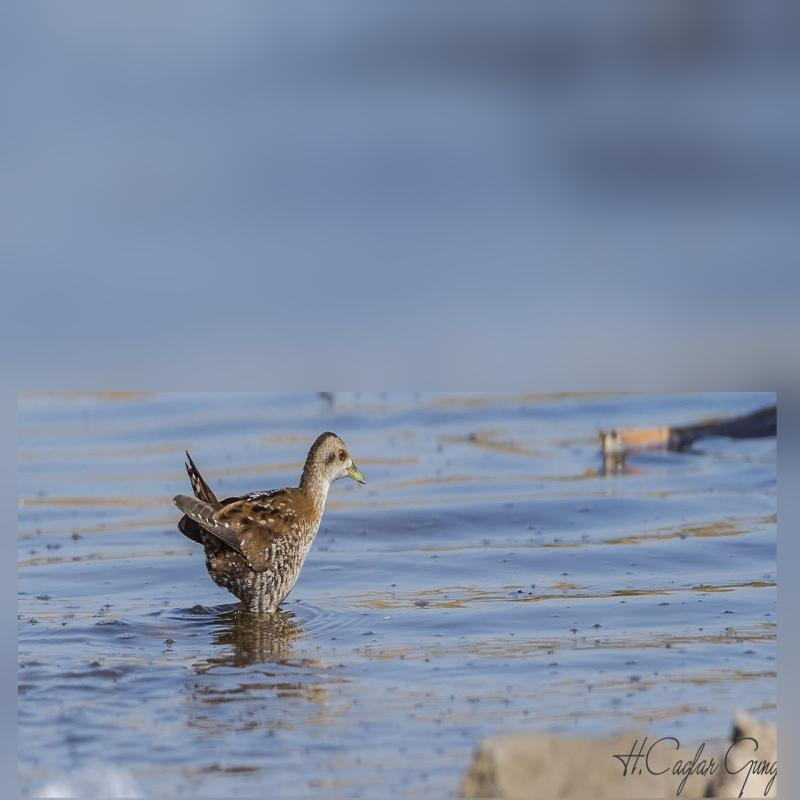little crake: (166, 424, 368, 622)
